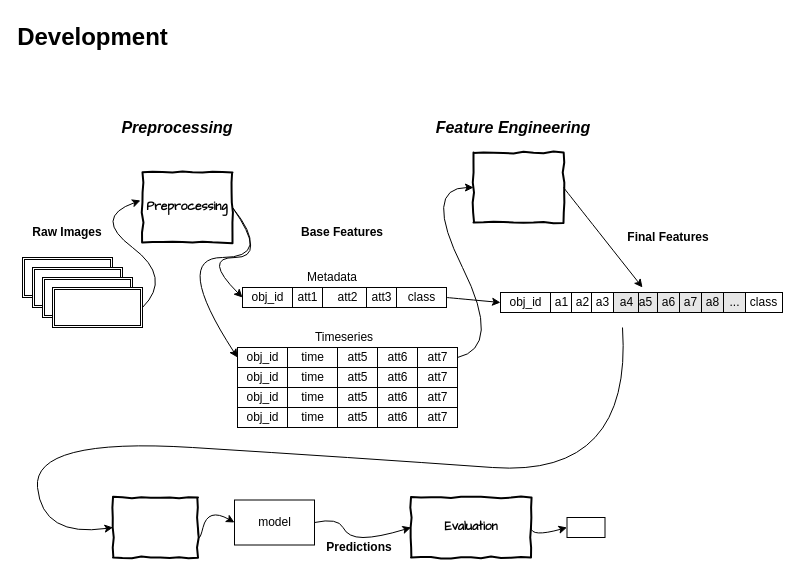
Image size: 800x584. Some labels were removed from this diagram. Each missing label, with the box of its shape:
Feature Engineering / Feature Creation: (472, 151, 564, 223)
Model Development + Stacking: (112, 496, 198, 558)
score: (566, 516, 605, 538)
